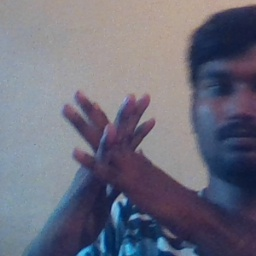W: (53, 81, 177, 228)
